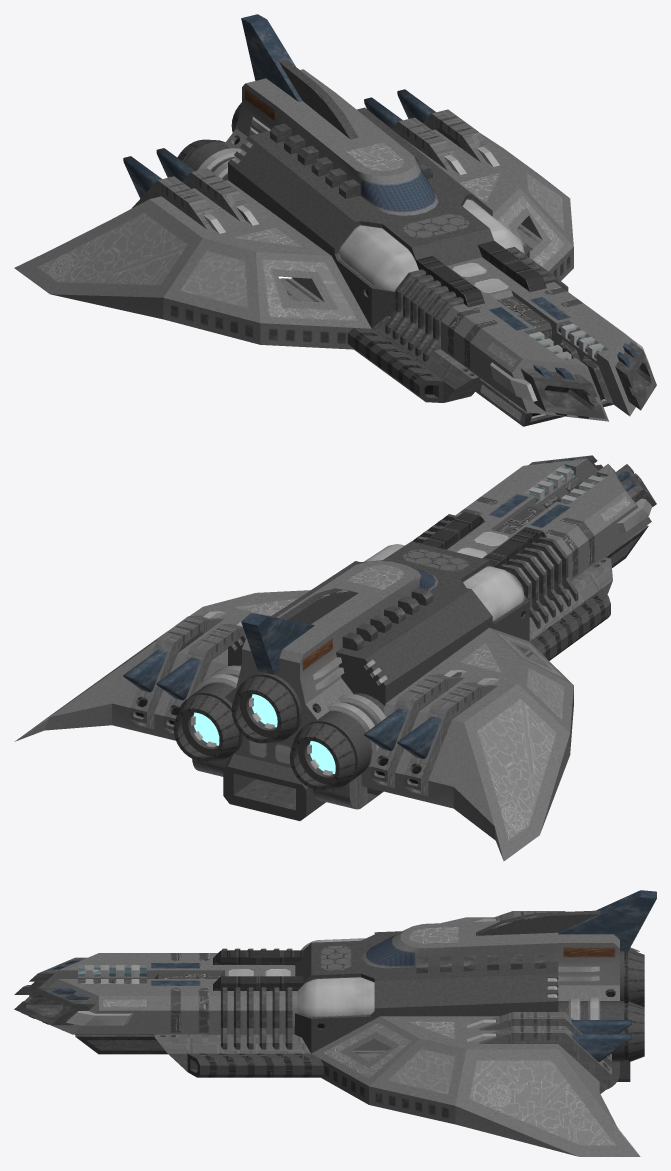
Rendered from mother-0-2.glb.
3 views of the same model, one above another, from view 1: azimuth 30°, elevation 25°; view 2: azimuth 150°, elevation 25°; view 3: azimuth 270°, elevation 25° (orthographic). The views are drawn at different scales.
Parts seen in each view (by area): view 1: mother-0-2_0; view 2: mother-0-2_0; view 3: mother-0-2_0.
Boxes of the visible parts, x1,y1,x2,y2 form: mother-0-2_0: (14, 14, 656, 426); mother-0-2_0: (14, 455, 656, 861); mother-0-2_0: (14, 890, 656, 1156).
Size of the model in its own units: 0.7558 by 0.2978 by 1.
1 material, 1 textured.
